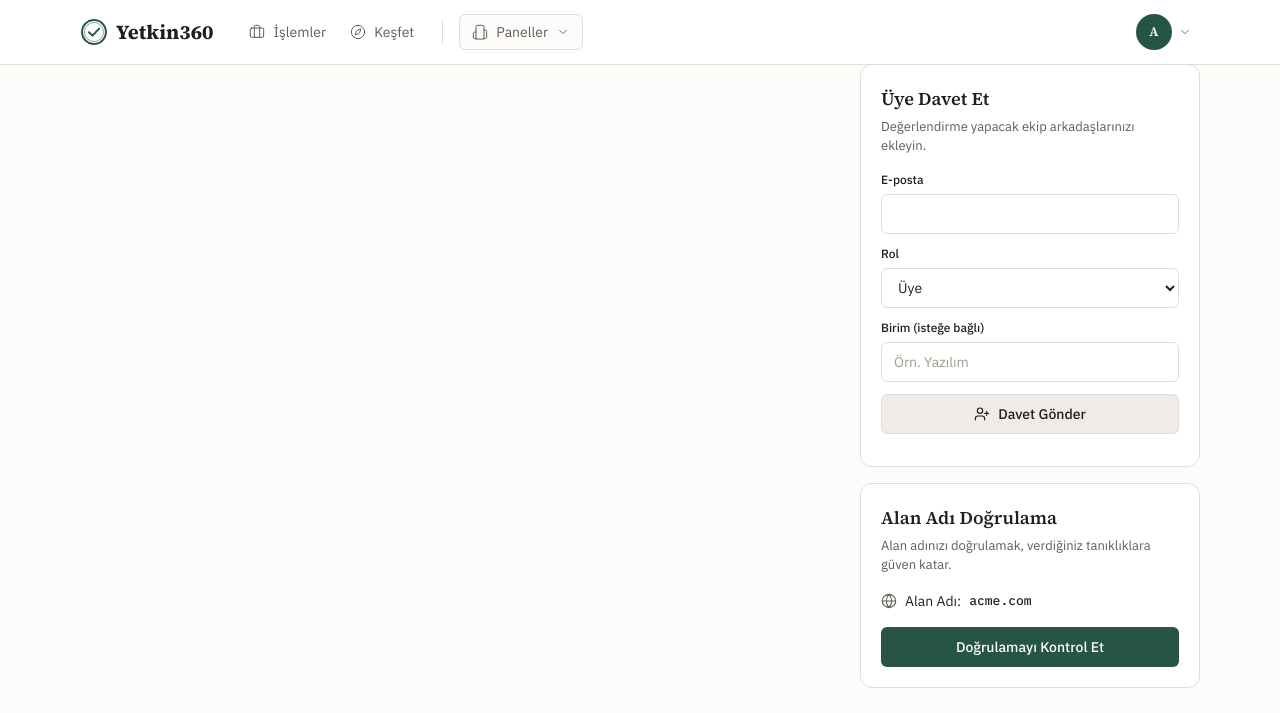
Test: KurulusPanelPage (/kurulus/[id]/panel) › Alan adı doğrulama bölümü › FREE_EMAIL_DOMAIN → ilgili hata mesajı gösterilir
(page scrolled)
Click the button "Doğrulamayı Kontrol Et": (1030, 646) [881,626,1179,666]
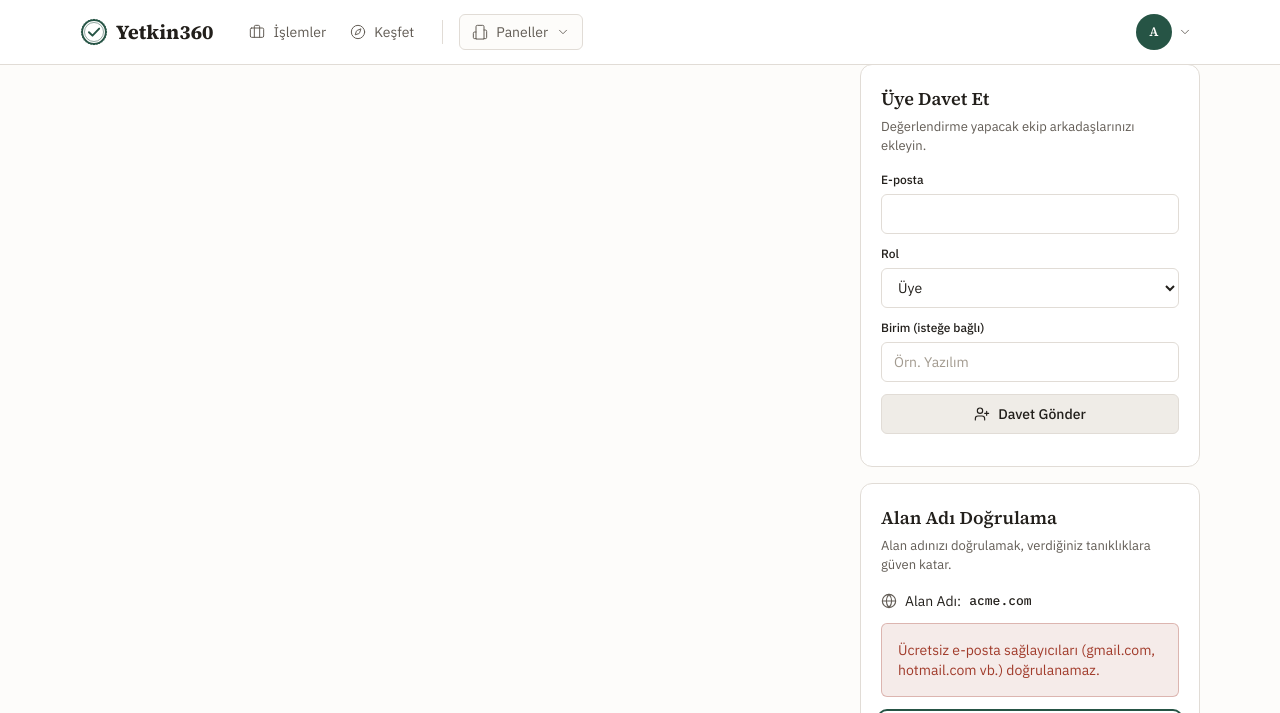
Check: the text "Ücretsiz e-posta sağlayıcıları (gmail.com, hotmail.com vb.) doğrulanamaz." is shown, box [881,622,1179,696]
